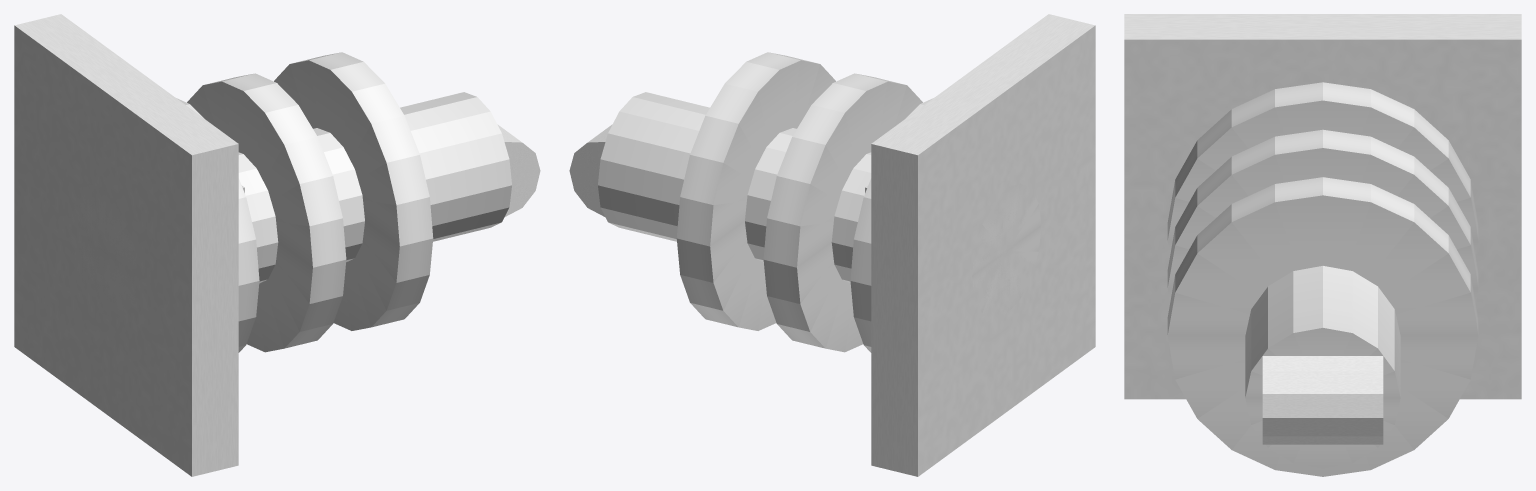
Rendered from lineinsulator12500.obj.
The picture shows the model from 3 angles, left to right: view 1: azimuth 30°, elevation 25°; view 2: azimuth 150°, elevation 25°; view 3: azimuth 270°, elevation 25°; orthographic projection. The views are drawn at different scales.
Visible parts, largest first — view 1: main, Porcelain, Clamp; view 2: main, Porcelain, Clamp; view 3: Porcelain, main, Clamp.
Part boxes in pixels (left/top/right/bottom): main: left=14, top=14, right=238, bottom=476; Porcelain: left=69, top=52, right=511, bottom=352; Clamp: left=497, top=124, right=540, bottom=216; main: left=871, top=14, right=1095, bottom=476; Porcelain: left=598, top=52, right=1041, bottom=352; Clamp: left=569, top=124, right=612, bottom=216; Porcelain: left=1167, top=82, right=1478, bottom=476; main: left=1124, top=14, right=1521, bottom=399; Clamp: left=1262, top=356, right=1383, bottom=444.
Size of the model in its own units: 0.307 by 0.23 by 0.23.
